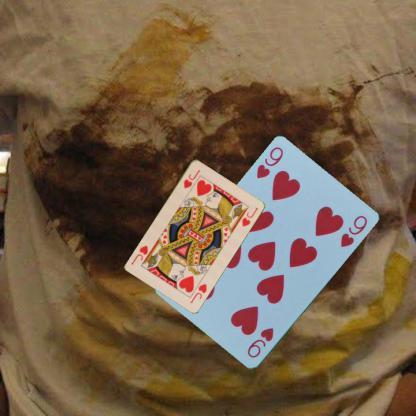9h: (244, 325, 275, 360), (254, 144, 284, 180)
Jh: (180, 166, 202, 190), (187, 280, 208, 304)
